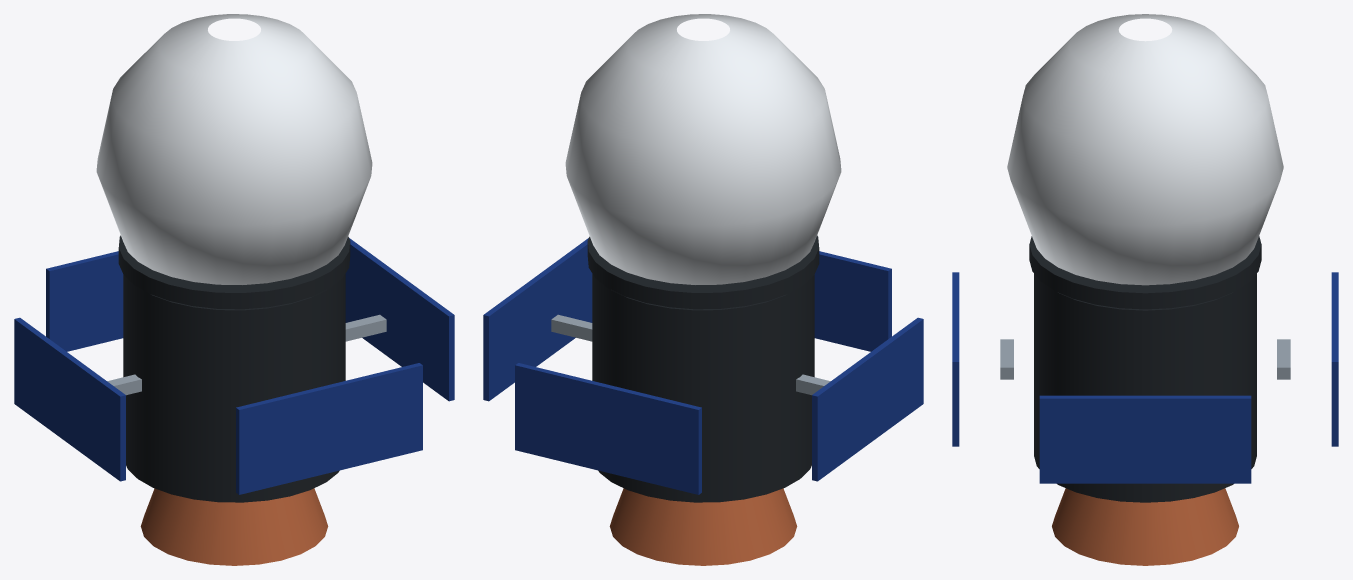
File: orion.glb
3 views of the same model, side by side, from view 1: azimuth 30°, elevation 25°; view 2: azimuth 150°, elevation 25°; view 3: azimuth 270°, elevation 25° (orthographic).
Parts seen in each view (by area): view 1: Orion; view 2: Orion; view 3: Orion.
Part boxes in pixels (bbox=[...]): Orion: bbox=[14, 14, 454, 565]; Orion: bbox=[483, 14, 923, 565]; Orion: bbox=[952, 14, 1338, 565].
Size of the model in its own units: 2.82 by 4 by 2.82.
